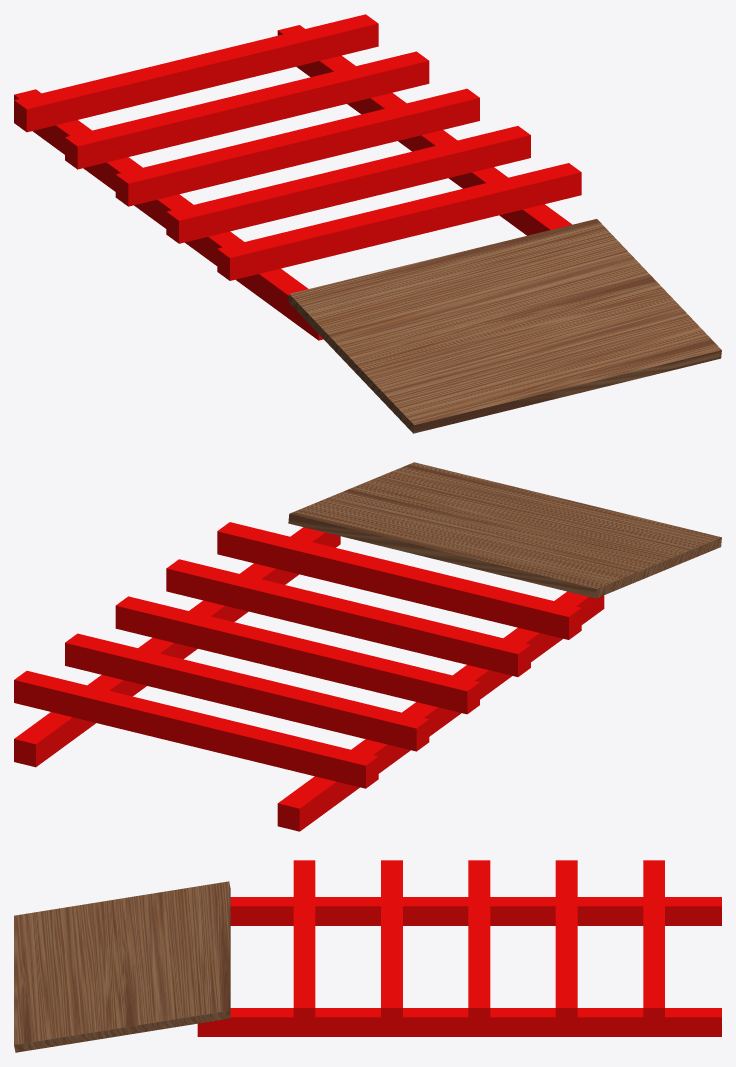
File: broadjump.glb
The picture shows the model from 3 angles, top to bottom: view 1: azimuth 30°, elevation 25°; view 2: azimuth 150°, elevation 25°; view 3: azimuth 270°, elevation 25°; orthographic projection. The views are drawn at different scales.
Parts seen in each view (by area): view 1: broadjump; view 2: broadjump; view 3: broadjump.
Boxes of the visible parts, x1=… form: broadjump: x1=14, y1=14, x2=721, y2=433; broadjump: x1=14, y1=462, x2=721, y2=831; broadjump: x1=14, y1=860, x2=721, y2=1052.
Size of the model in its own units: 1.6 by 0.273 by 3.24.
1 material, 1 textured.
